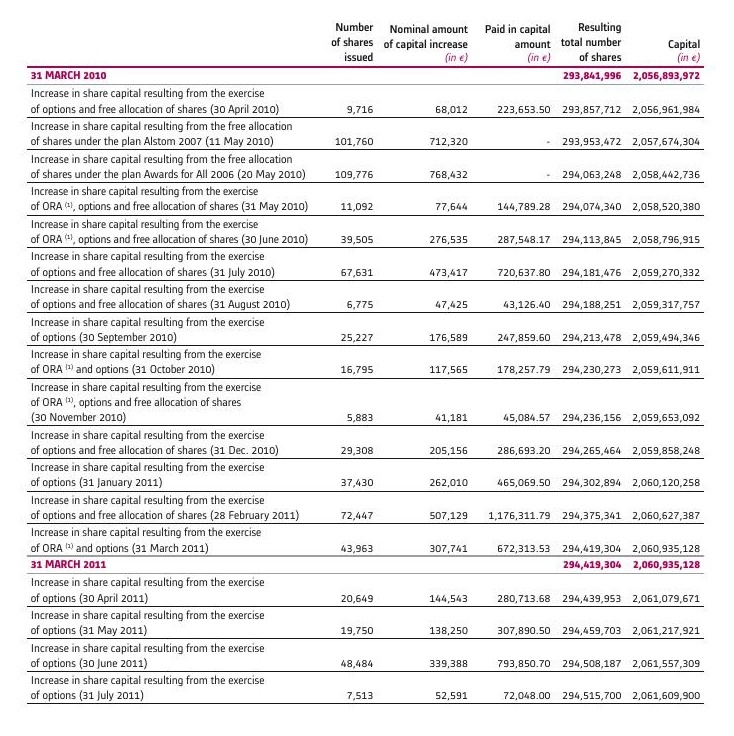table: (0, 0, 734, 736)
